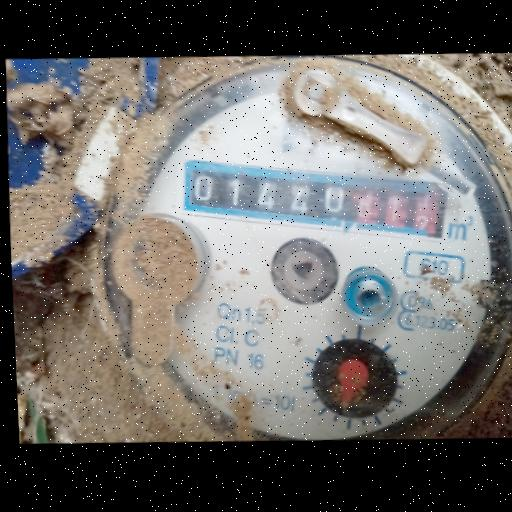0: (318, 181, 348, 222), (189, 170, 218, 209)
1: (411, 181, 442, 234), (382, 189, 411, 229), (221, 172, 247, 211)
4: (285, 178, 316, 218), (252, 175, 280, 215)
6: (354, 186, 380, 225)
border_water_meter_number: (178, 149, 451, 247)
